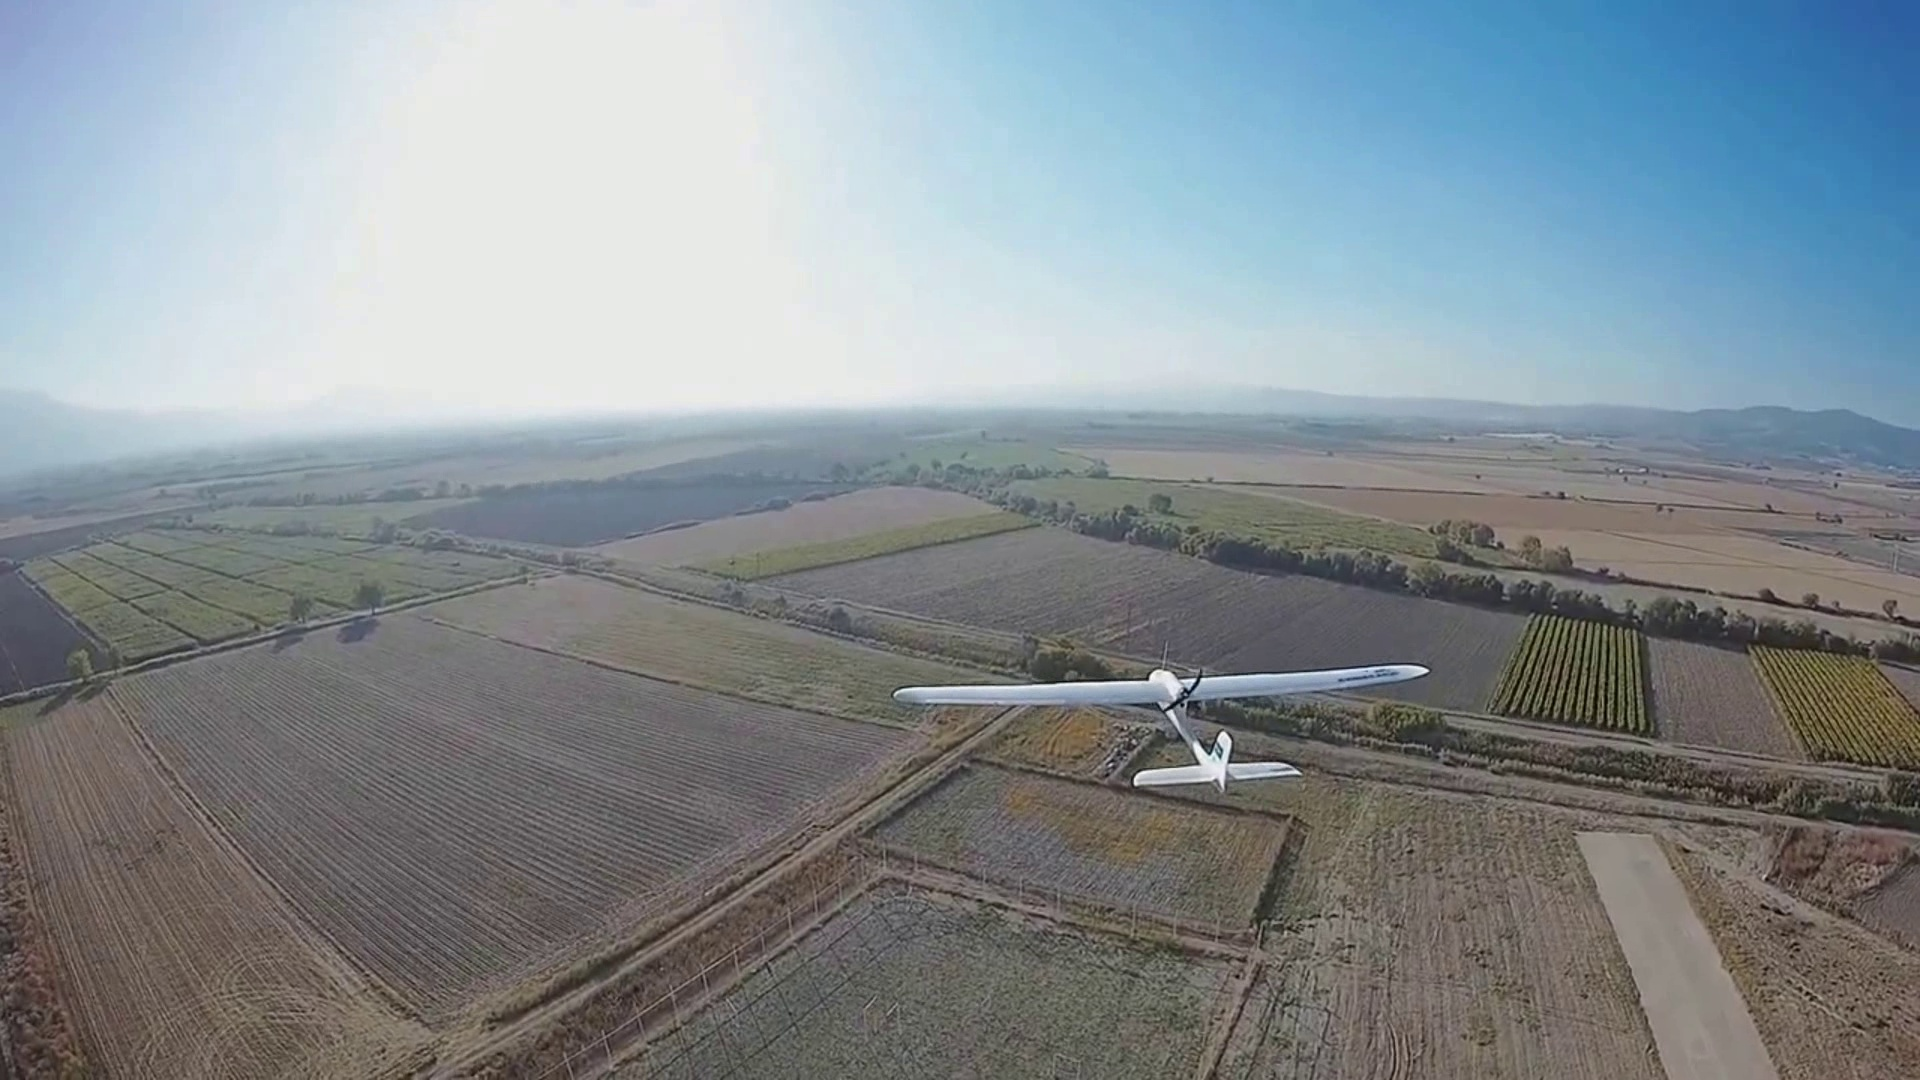airplane: (889, 659, 1429, 796)
